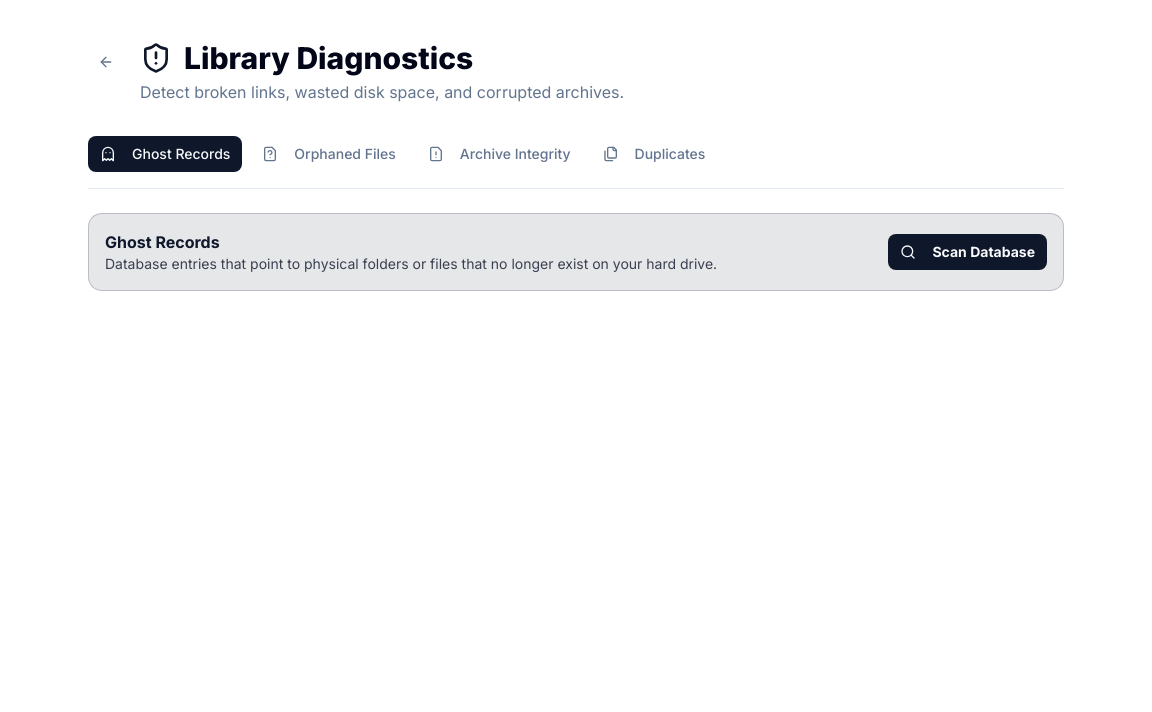
Duplicate Resolver mispair guard (issue #196) › Resolve All only offers the true-duplicate files, skipping the mispair group
Click the button "Duplicates": (654, 154) [591,136,717,172]
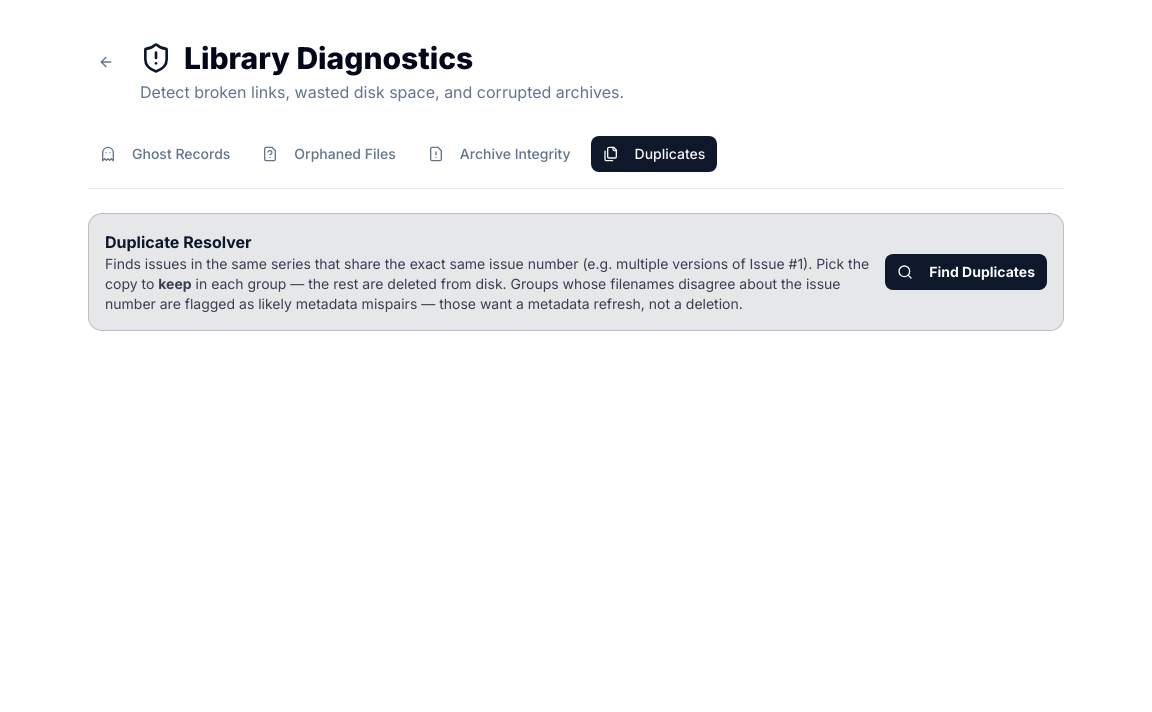
Click the button "Find Duplicates": (966, 272) [885,254,1047,290]
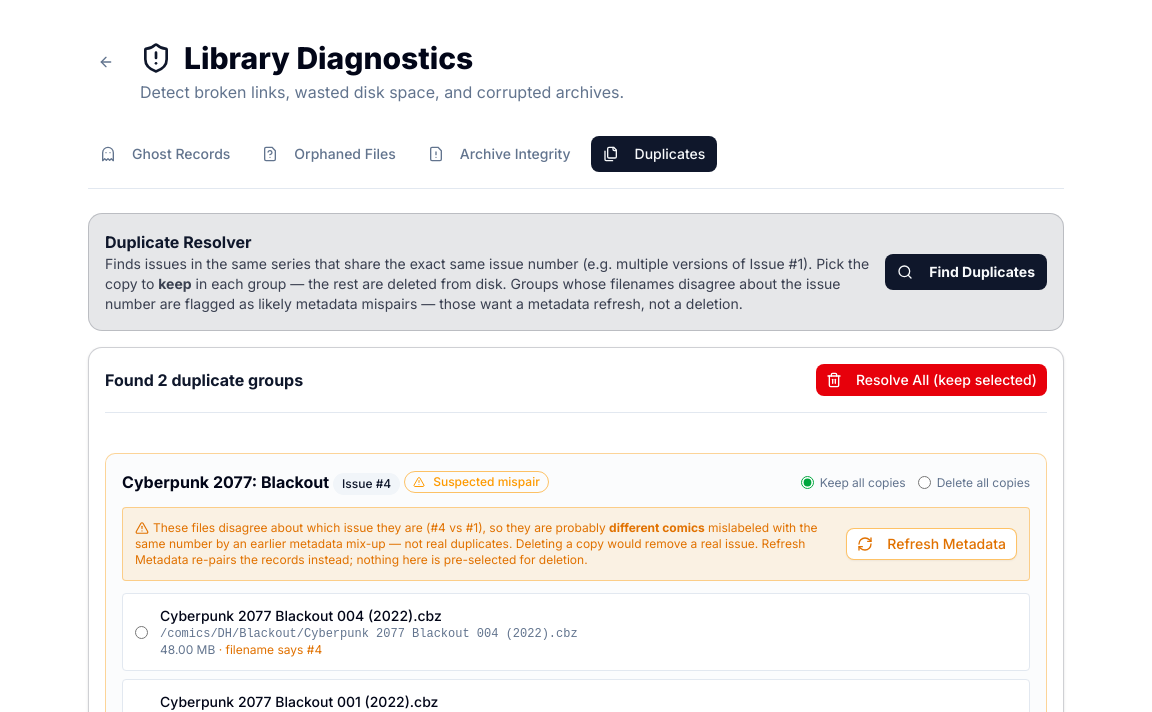
Expected: the text "Found 2 duplicate groups" is shown, [105,368,303,392]
Click the button "Resolve All (keep selected)": (931, 380) [816,364,1047,396]
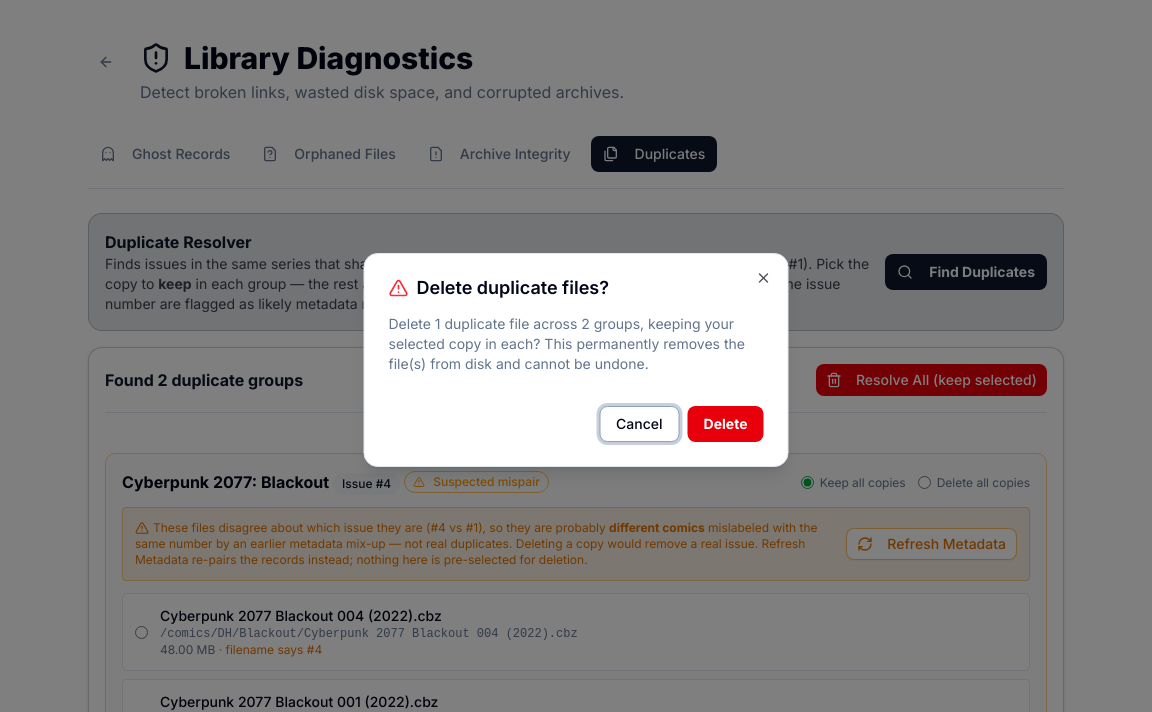
Expected: the text "Delete 1 duplicate file across 2 groups" is shown, [388,315,745,372]
